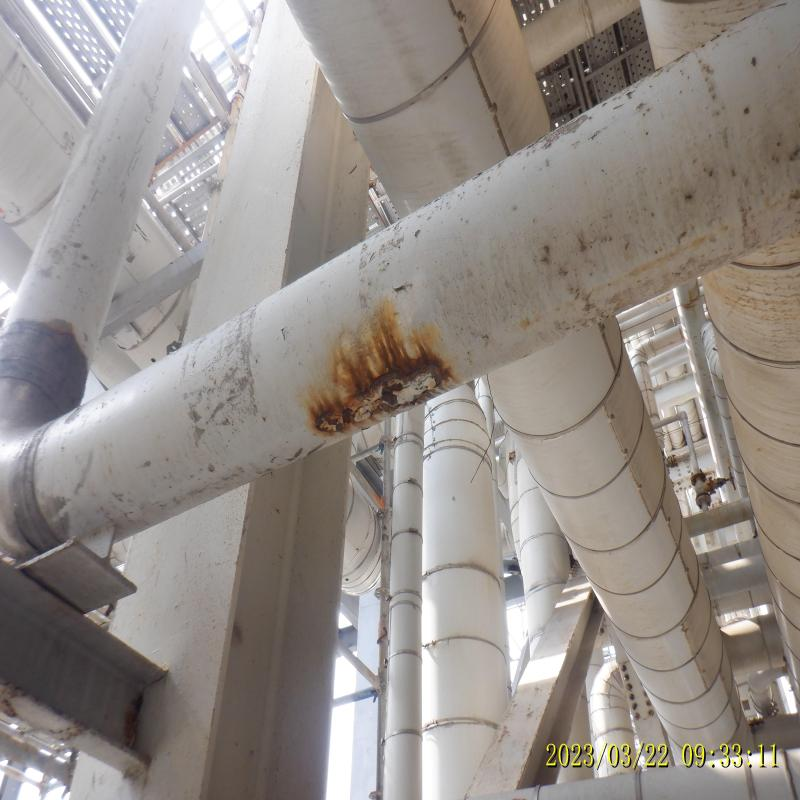corrosion: (352, 349, 439, 402), (312, 389, 358, 426)
